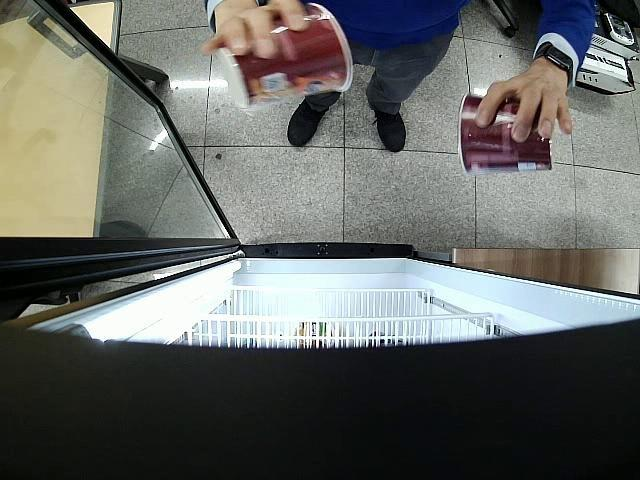06_nuguri_S: (216, 3, 354, 109), (458, 94, 554, 176)
